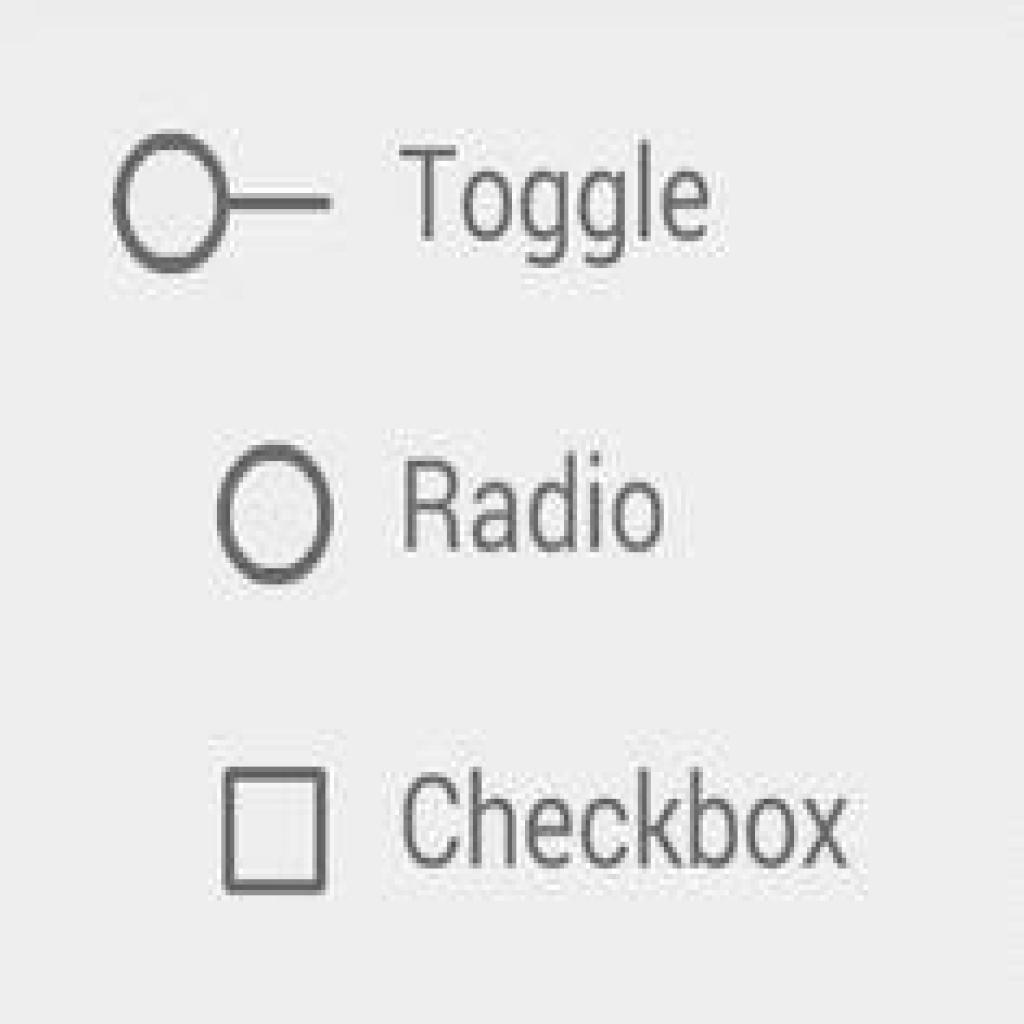checkbox: (223, 770, 325, 893)
label: (400, 761, 861, 887), (394, 133, 717, 269), (395, 445, 665, 566)
radio: (211, 439, 332, 598)
